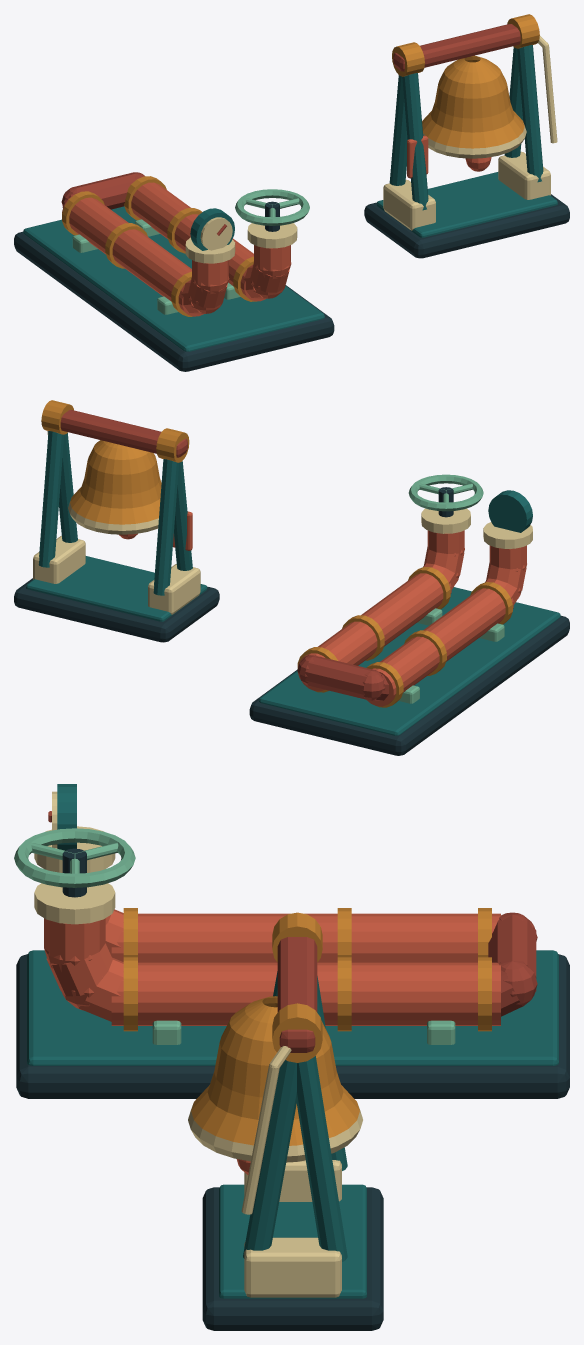
The model's file is PL_TreasureWaysideKit.glb.
3 renders of one model, top to bottom at view 1: azimuth 30°, elevation 25°; view 2: azimuth 150°, elevation 25°; view 3: azimuth 270°, elevation 25°, orthographic. The views are drawn at different scales.
Visible parts, largest first — view 1: CopperManifold_Surface, FogBell_Surface; view 2: CopperManifold_Surface, FogBell_Surface; view 3: CopperManifold_Surface, FogBell_Surface.
Boxes of the visible parts, x1,y1,x2,y2 form: CopperManifold_Surface: [14, 172, 334, 371]; FogBell_Surface: [364, 14, 569, 258]; CopperManifold_Surface: [249, 474, 569, 755]; FogBell_Surface: [14, 400, 219, 642]; CopperManifold_Surface: [14, 784, 569, 1098]; FogBell_Surface: [188, 912, 383, 1330].
Size of the model in its own units: 7.65 by 3.11 by 5.07.
